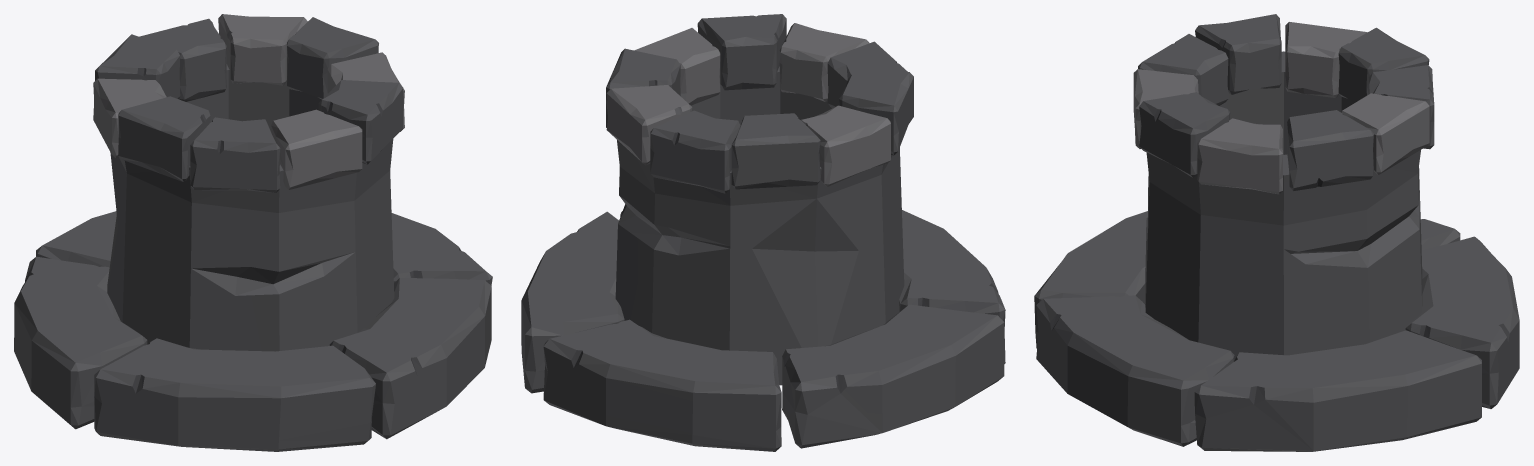
Rendered from SM_Prop_Statue_Base_01.gltf.
The picture shows the model from 3 angles, left to right: view 1: azimuth 30°, elevation 25°; view 2: azimuth 150°, elevation 25°; view 3: azimuth 270°, elevation 25°; orthographic projection.
Parts seen in each view (by area): view 1: SM_Prop_Statue_Base_01; view 2: SM_Prop_Statue_Base_01; view 3: SM_Prop_Statue_Base_01.
Boxes of the visible parts, <box> form: SM_Prop_Statue_Base_01: <box>14,14,492,451</box>; SM_Prop_Statue_Base_01: <box>521,14,1005,451</box>; SM_Prop_Statue_Base_01: <box>1034,14,1519,451</box>.
Size of the model in its own units: 1.84 by 1.17 by 1.85.
Materials: 1 (1 with a texture image).
